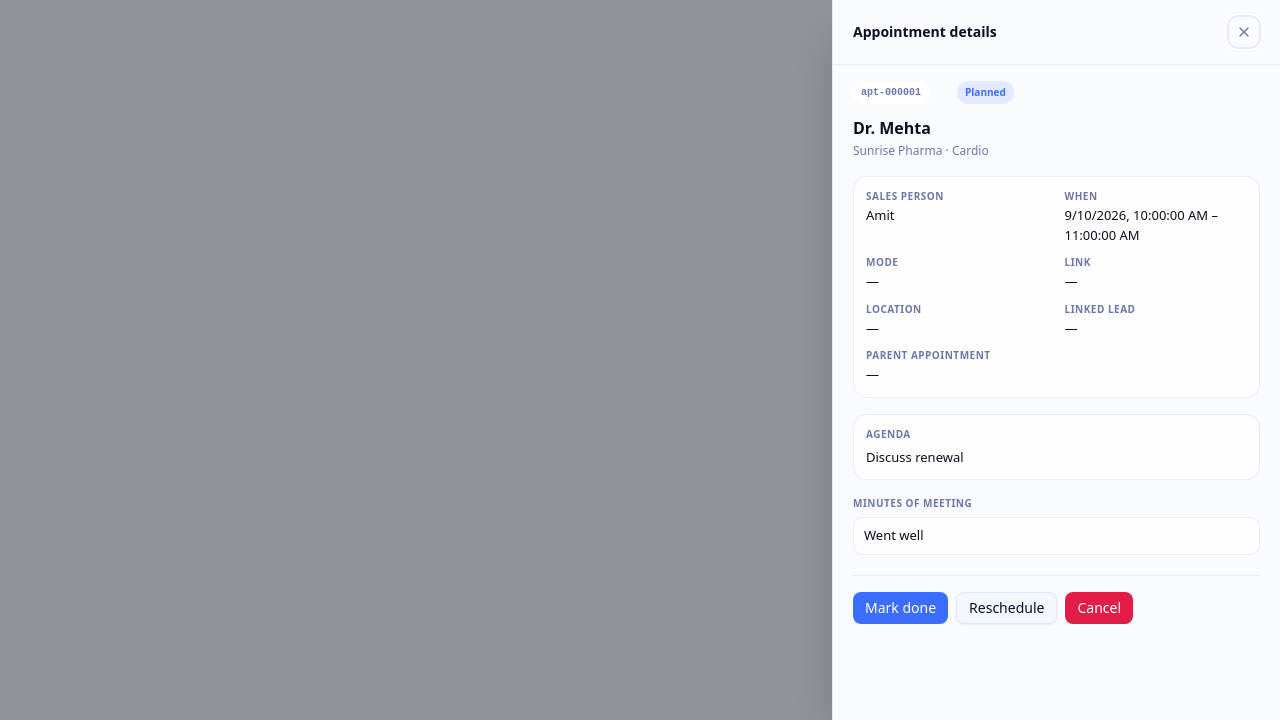
Test: AppointmentDrawer — "+ New lead" is gated on lead:manage/tenant:manage › hides the Mark-done dialog's "+ New lead" when the viewer lacks lead:manage/tenant:manage
What coordinates should you click on to do the following:
click the button "Mark done"
I would click on:
 (901, 608)
Its box is [853,592,948,624].
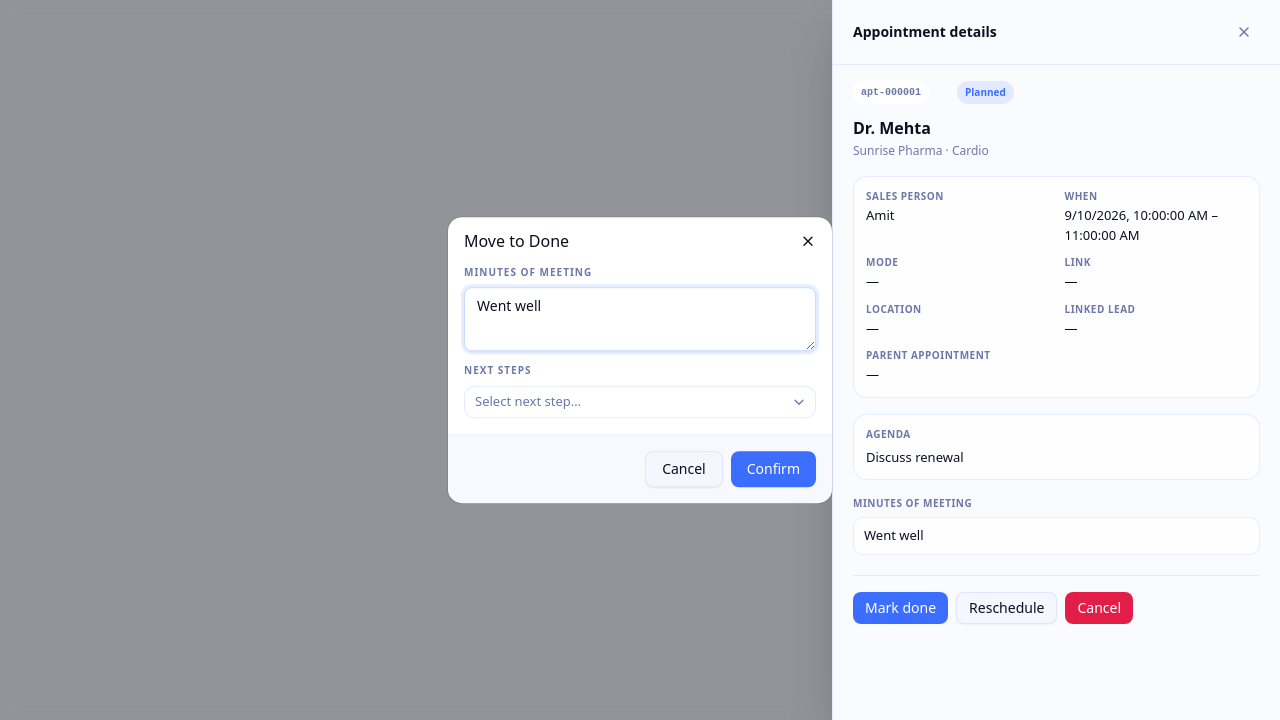
Expected: the heading "Move to Done" is shown, [464,230,569,252]
